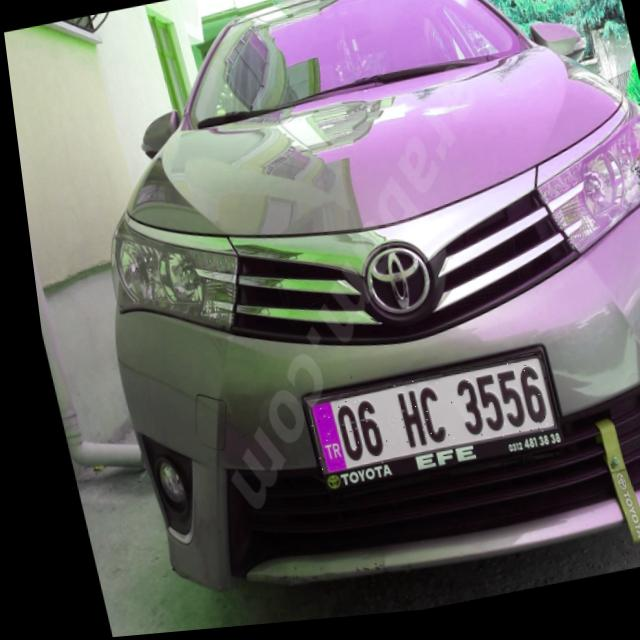license_plate: (292, 363, 547, 480)
